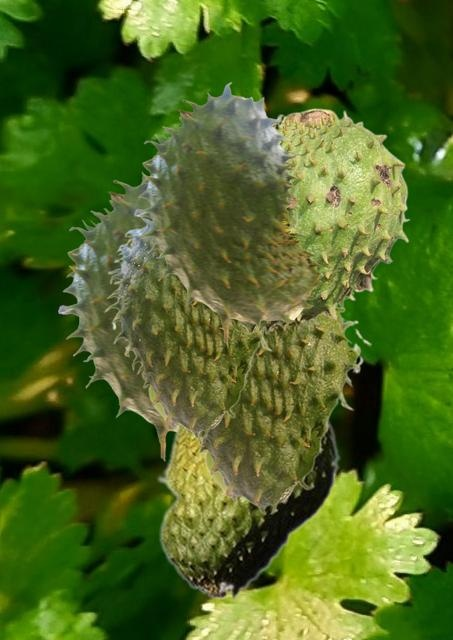guyabano: (134, 82, 322, 344), (185, 291, 371, 514), (238, 108, 409, 334), (104, 217, 274, 438), (156, 419, 339, 602), (58, 171, 173, 460)
